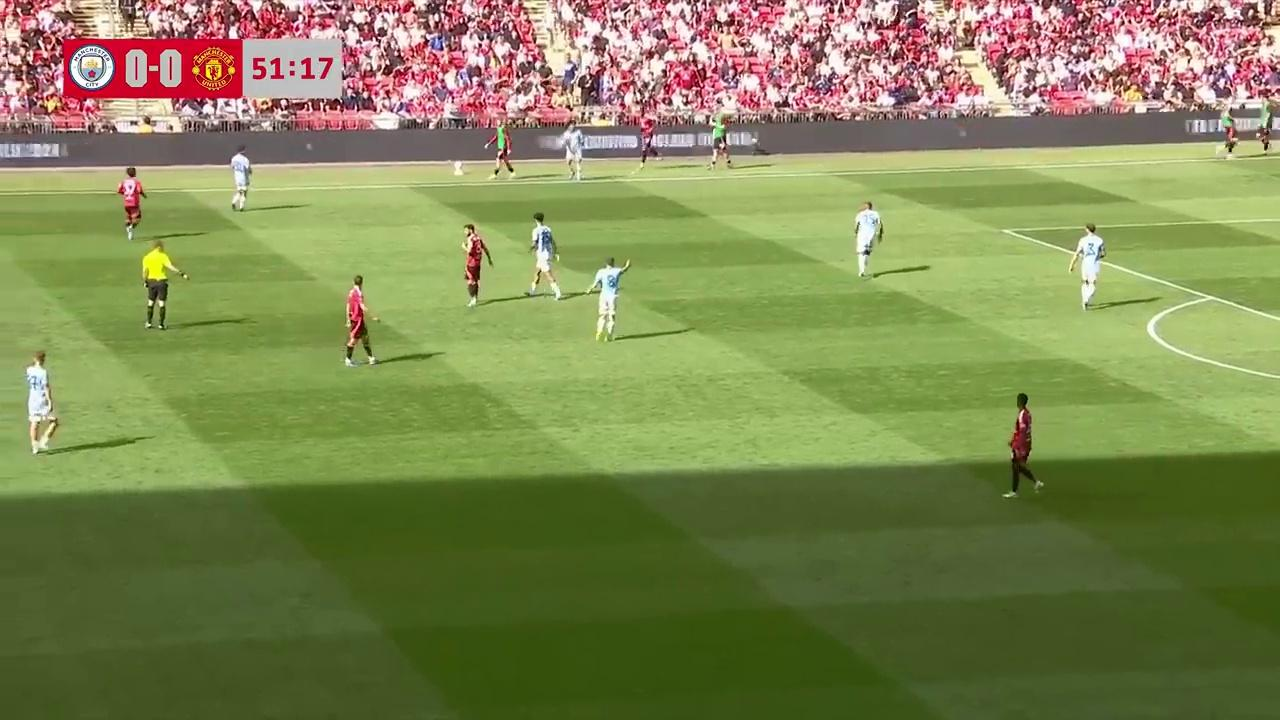player: (1002, 392, 1044, 499), (25, 351, 59, 454), (343, 274, 378, 367), (589, 257, 627, 342), (1070, 224, 1105, 310), (528, 212, 561, 300), (461, 224, 493, 307), (853, 201, 882, 278), (116, 167, 146, 240), (230, 147, 252, 211), (565, 118, 581, 181)
referee: (141, 238, 183, 330)
